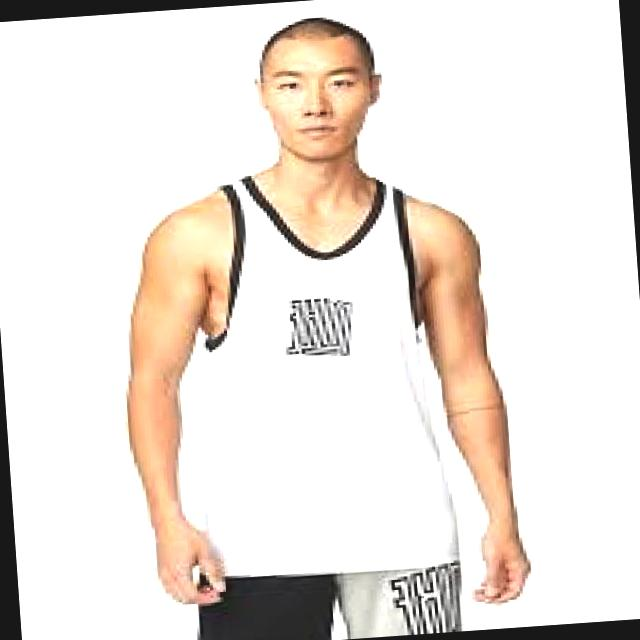no_vest: (161, 162, 460, 580)
